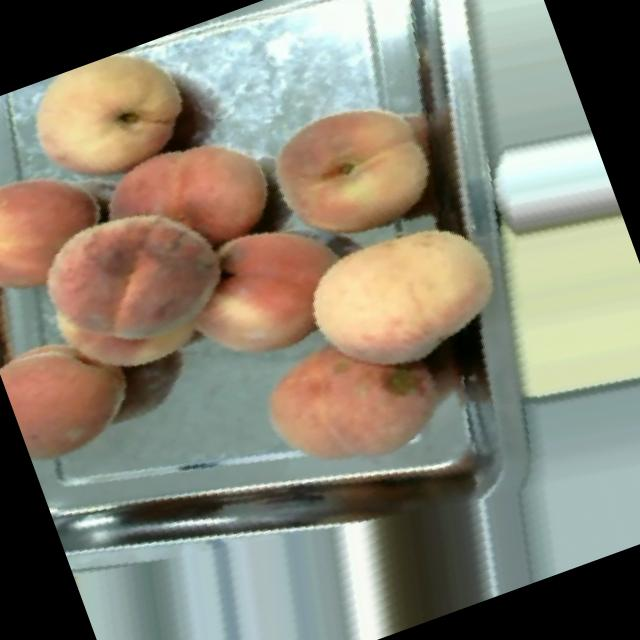Fruit: (424, 161, 640, 453), (272, 186, 537, 413), (0, 159, 260, 388), (224, 288, 478, 520), (235, 63, 470, 276), (162, 190, 380, 388), (69, 102, 298, 287), (2, 32, 216, 210), (0, 299, 162, 485), (0, 132, 138, 324)
